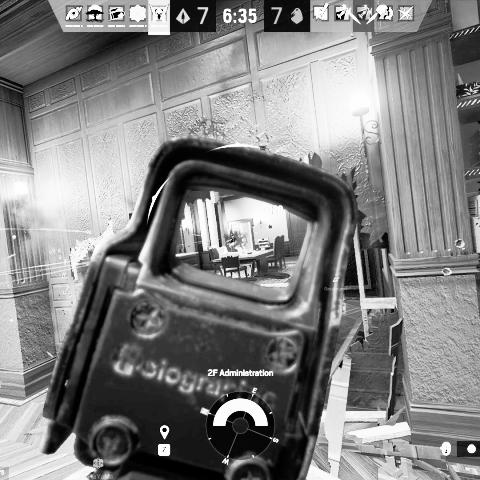Character: (226, 233, 242, 246)
Head: (230, 233, 234, 238)
